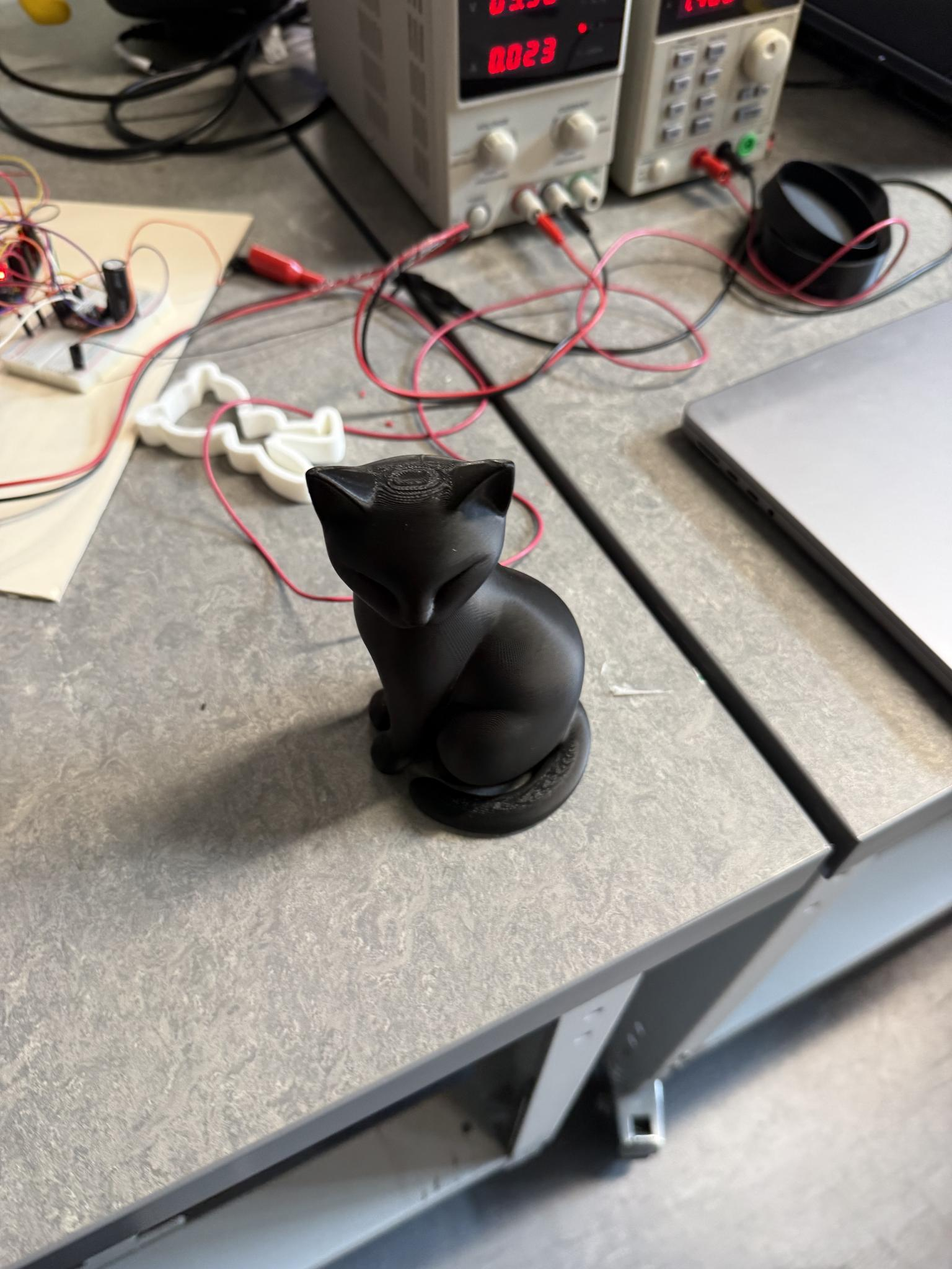cat: (307, 455, 590, 835)
